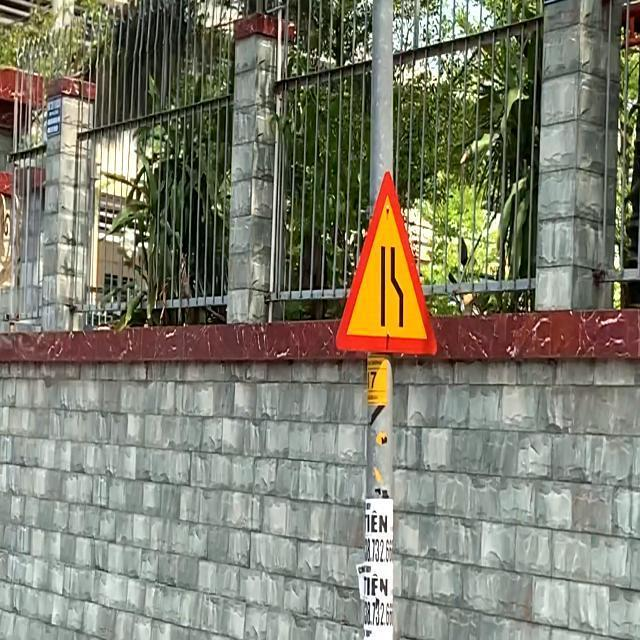205-duong-giao-nhau: (332, 169, 440, 358)
